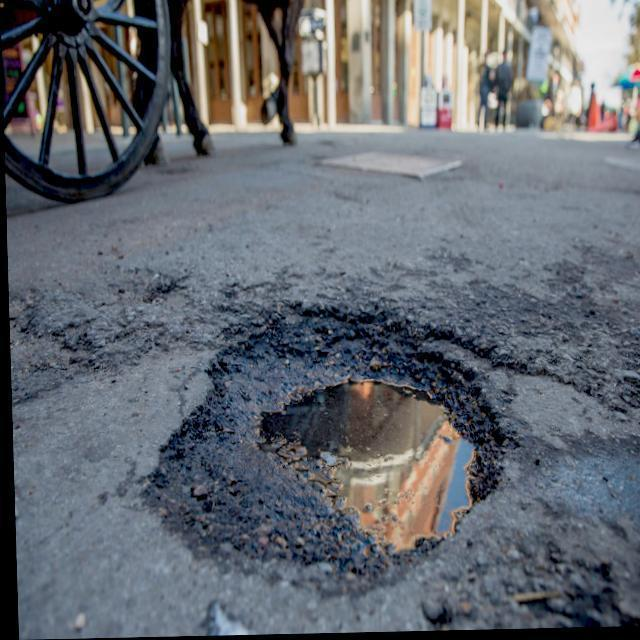Pothole: (131, 294, 538, 605)
